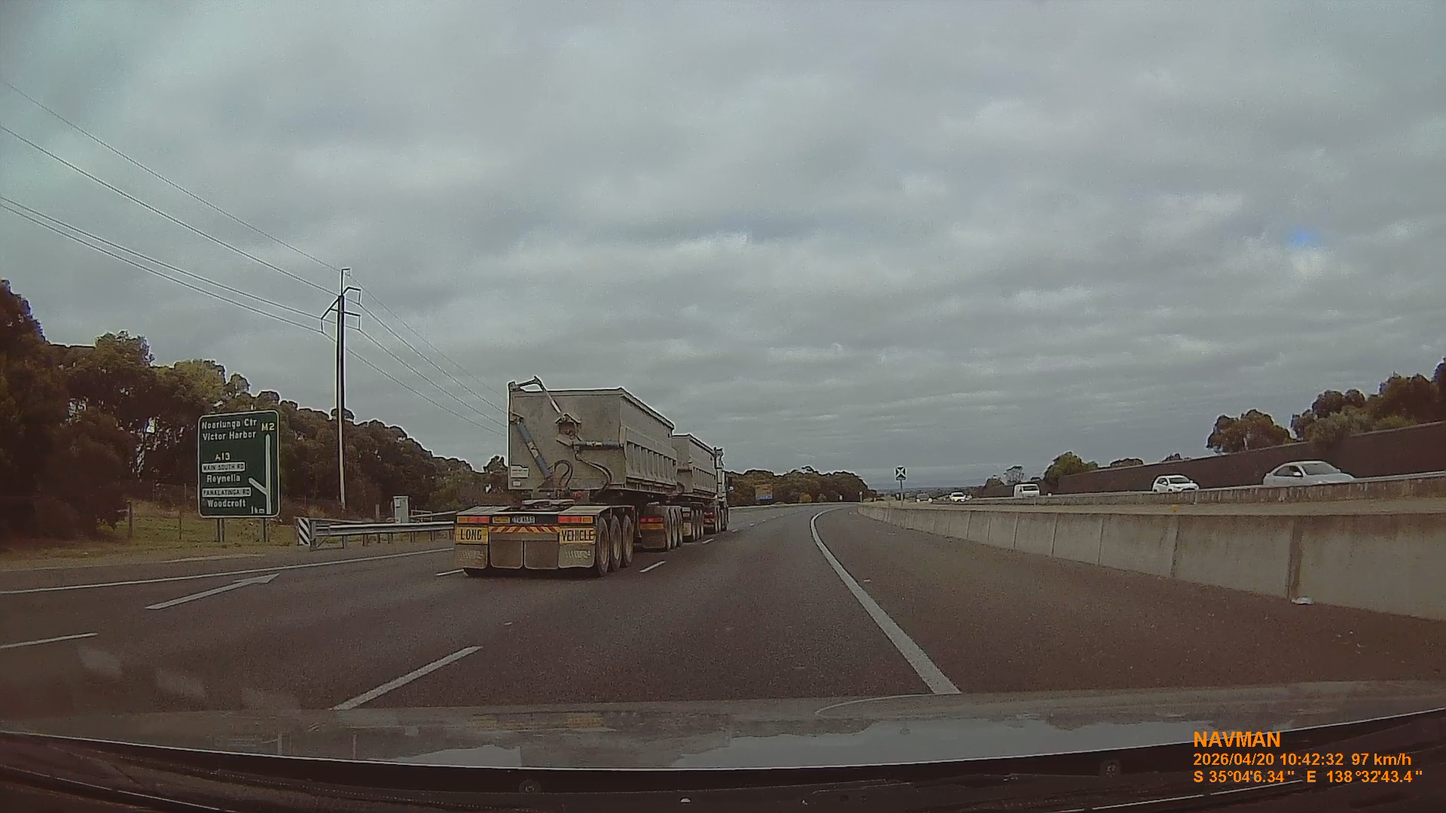road barriers: (827, 474, 1445, 617), (307, 518, 447, 550)
